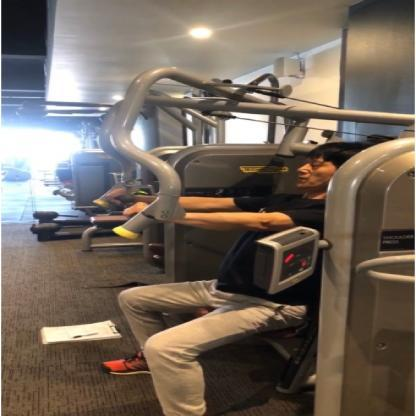Chest Press machine: (87, 60, 416, 416)
